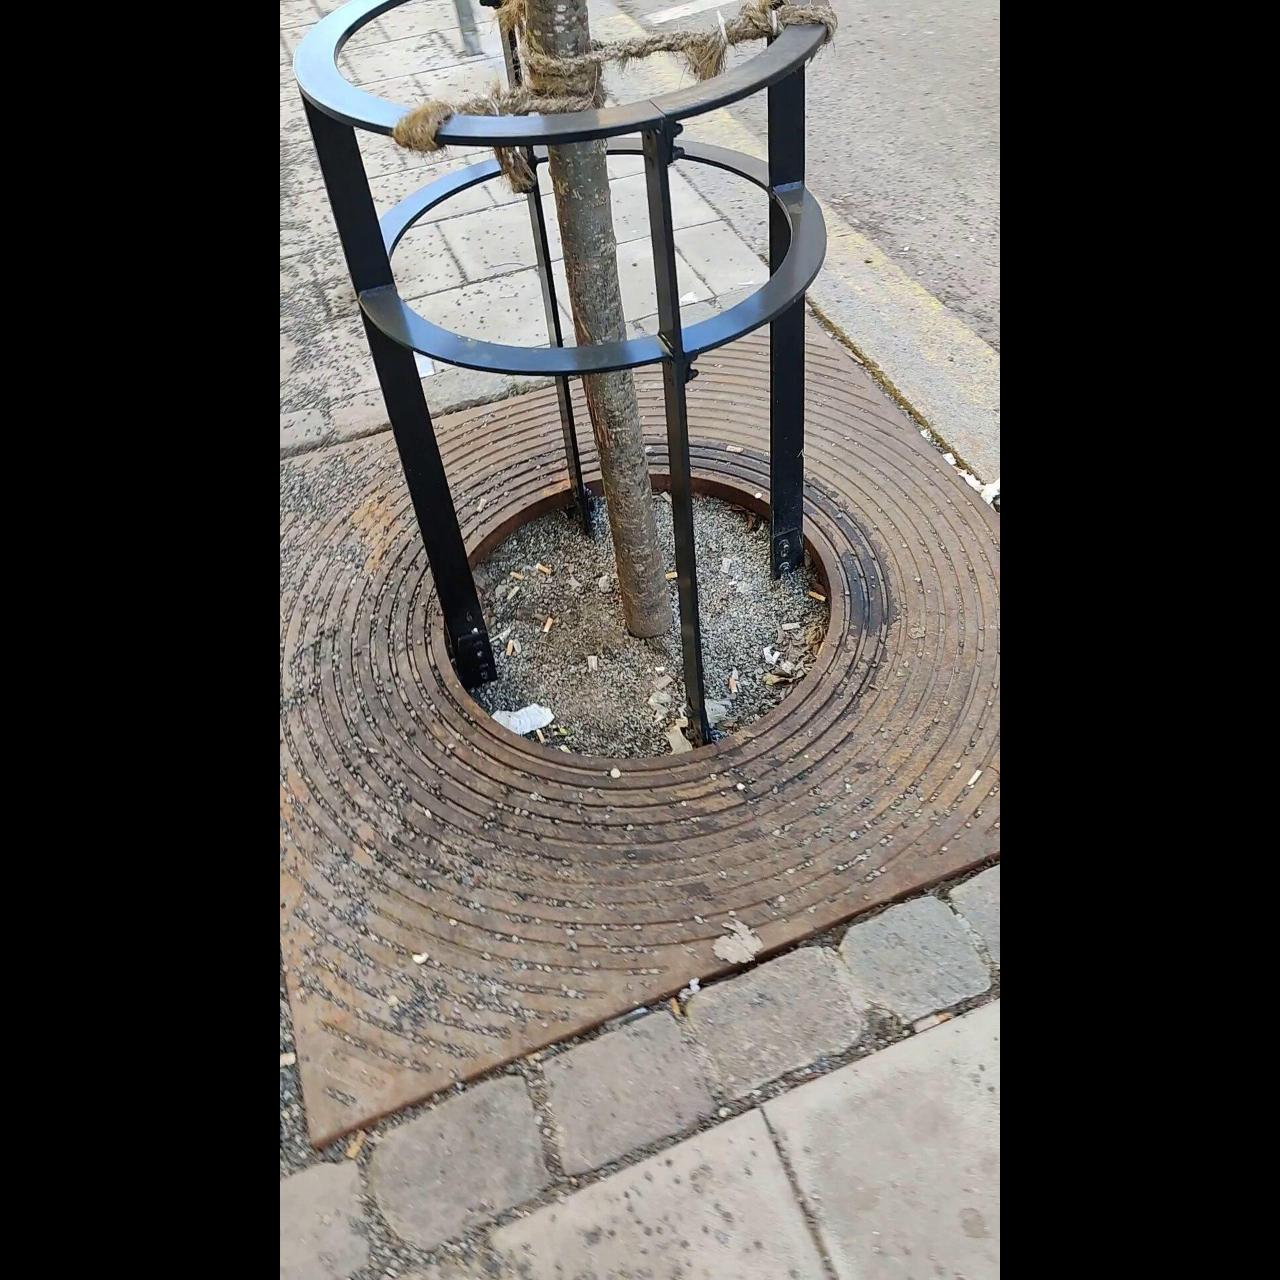cigarettes_butts: (726, 674, 741, 695), (509, 571, 527, 585), (504, 640, 516, 662), (806, 590, 825, 602), (782, 622, 803, 633), (967, 772, 981, 787), (537, 561, 553, 573), (545, 618, 553, 636), (536, 724, 544, 742), (663, 577, 674, 581)
others: (726, 443, 743, 452), (476, 498, 488, 512)
